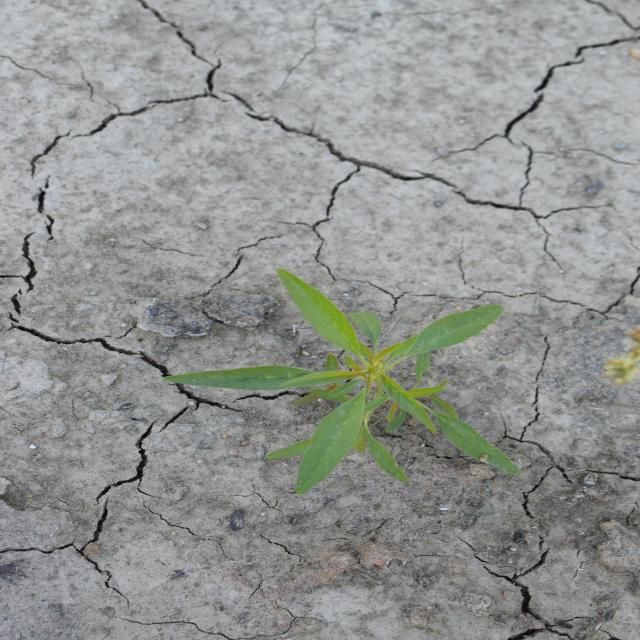Waterhemp: (158, 267, 523, 495)
